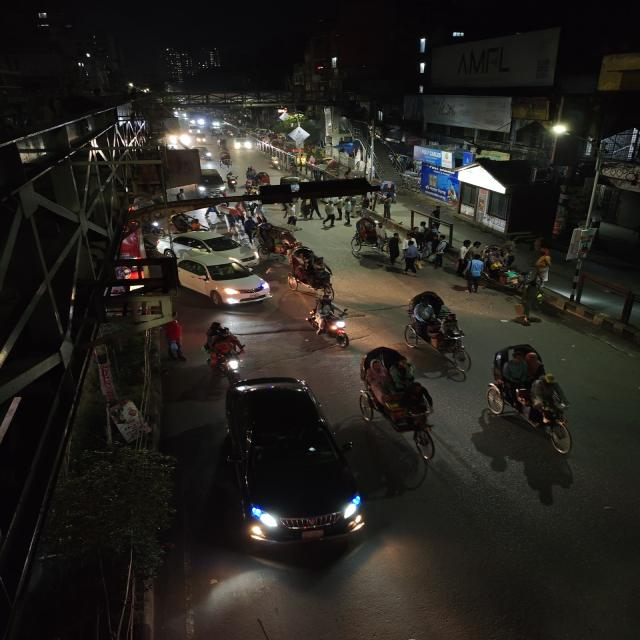car: (210, 370, 368, 559), (176, 254, 273, 310), (158, 229, 260, 261), (198, 168, 227, 198)
motorcycle: (303, 294, 358, 350), (199, 321, 249, 378), (227, 170, 239, 188)
pedestrian: (505, 281, 548, 325), (351, 215, 384, 253), (462, 254, 487, 294), (450, 238, 472, 274), (429, 236, 450, 270), (403, 240, 422, 276), (385, 232, 404, 266), (320, 200, 338, 230), (300, 195, 318, 221), (340, 199, 354, 226), (285, 213, 300, 227)
rickshaw: (479, 338, 591, 458), (354, 342, 450, 462), (402, 289, 478, 370), (282, 246, 342, 300), (254, 221, 298, 257)
